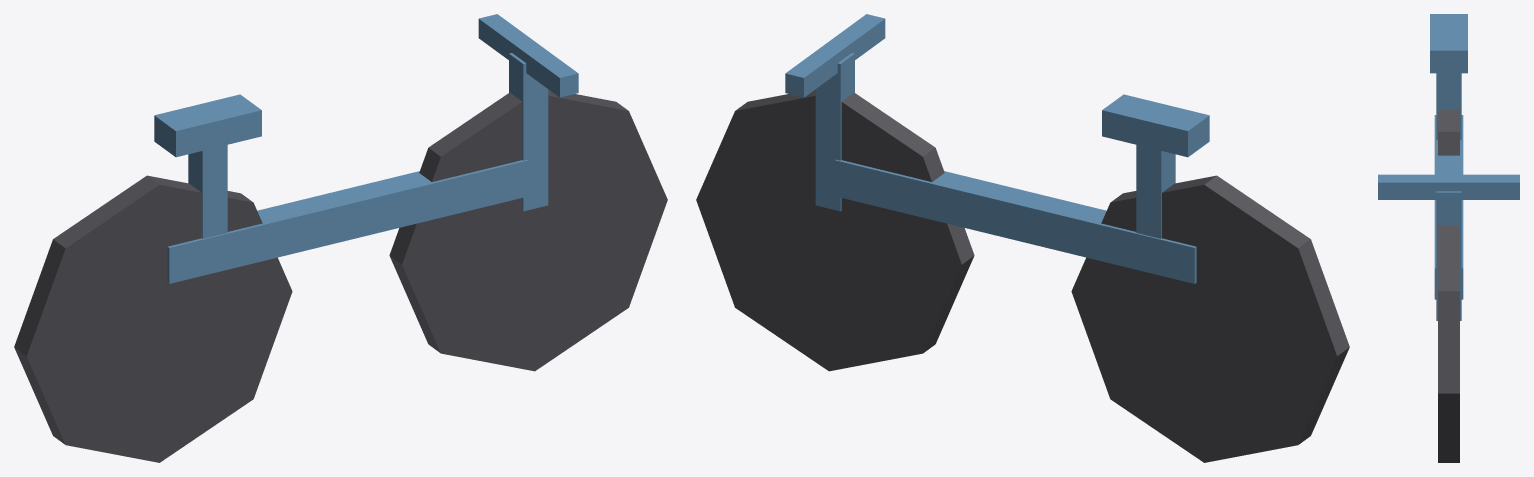
3 renders of one model, left to right at view 1: azimuth 30°, elevation 25°; view 2: azimuth 150°, elevation 25°; view 3: azimuth 270°, elevation 25°, orthographic. The views are drawn at different scales.
Parts seen in each view (by area): view 1: part1, part0, part2, part4, part5, part6, part3; view 2: part1, part0, part2, part4, part5, part6, part3; view 3: part0, part6, part4, part2, part5, part3, part1.
Boxes of the visible parts, x1,y1,x2,y2 form: part1: (14, 175, 292, 462); part0: (389, 89, 667, 371); part2: (167, 159, 528, 283); part4: (154, 94, 261, 157); part5: (509, 53, 548, 211); part6: (478, 14, 578, 97); part3: (188, 145, 227, 238); part1: (1071, 175, 1349, 462); part0: (696, 89, 974, 371); part2: (835, 159, 1196, 283); part4: (1102, 94, 1209, 157); part5: (815, 53, 854, 211); part6: (785, 14, 885, 97); part3: (1136, 145, 1175, 238); part0: (1438, 226, 1459, 462); part6: (1378, 174, 1519, 199); part4: (1430, 14, 1467, 73); part2: (1434, 115, 1463, 299); part5: (1436, 191, 1461, 320); part3: (1436, 73, 1461, 140); part1: (1438, 110, 1459, 155).
Size of the model in its own units: 4.1 by 2.03 by 0.9.
